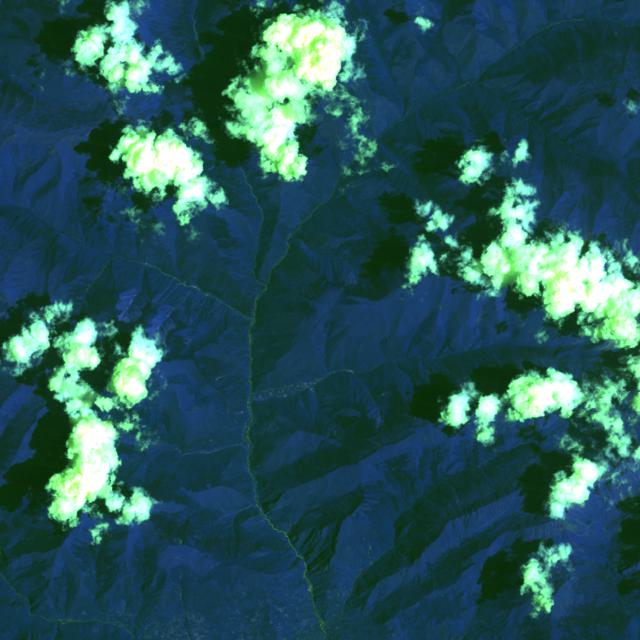landslides: (155, 278, 174, 303), (161, 283, 180, 303), (192, 299, 206, 324), (565, 513, 588, 527), (562, 516, 577, 534), (364, 536, 373, 565), (208, 302, 221, 317), (215, 371, 234, 381), (224, 253, 248, 260), (523, 589, 537, 600), (366, 438, 381, 447), (231, 348, 250, 355), (576, 500, 586, 513), (577, 495, 588, 506), (452, 486, 459, 503), (424, 496, 435, 506)
